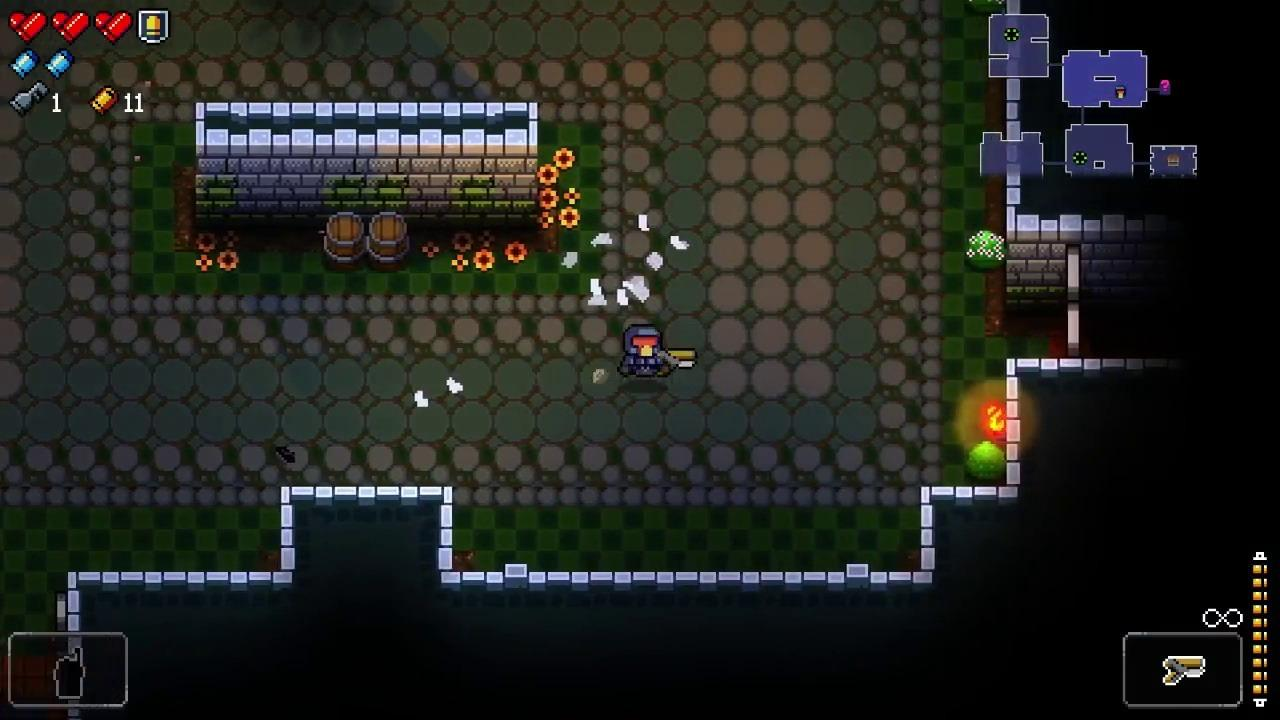player: (622, 324, 664, 379)
unlocked_door: (1065, 247, 1080, 357)
wall: (195, 102, 537, 239)
